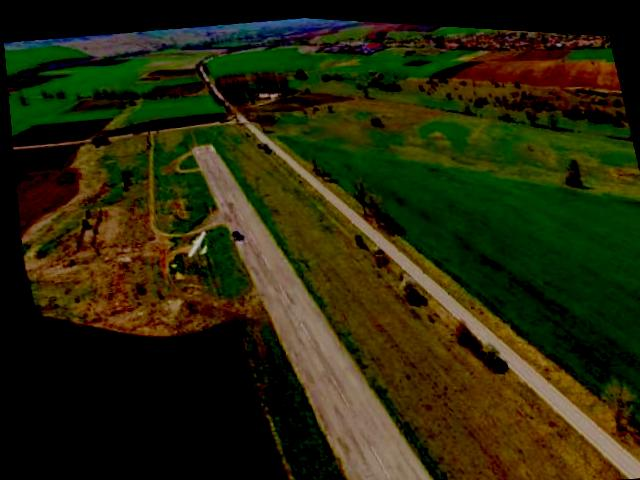uav: (174, 218, 214, 261)
